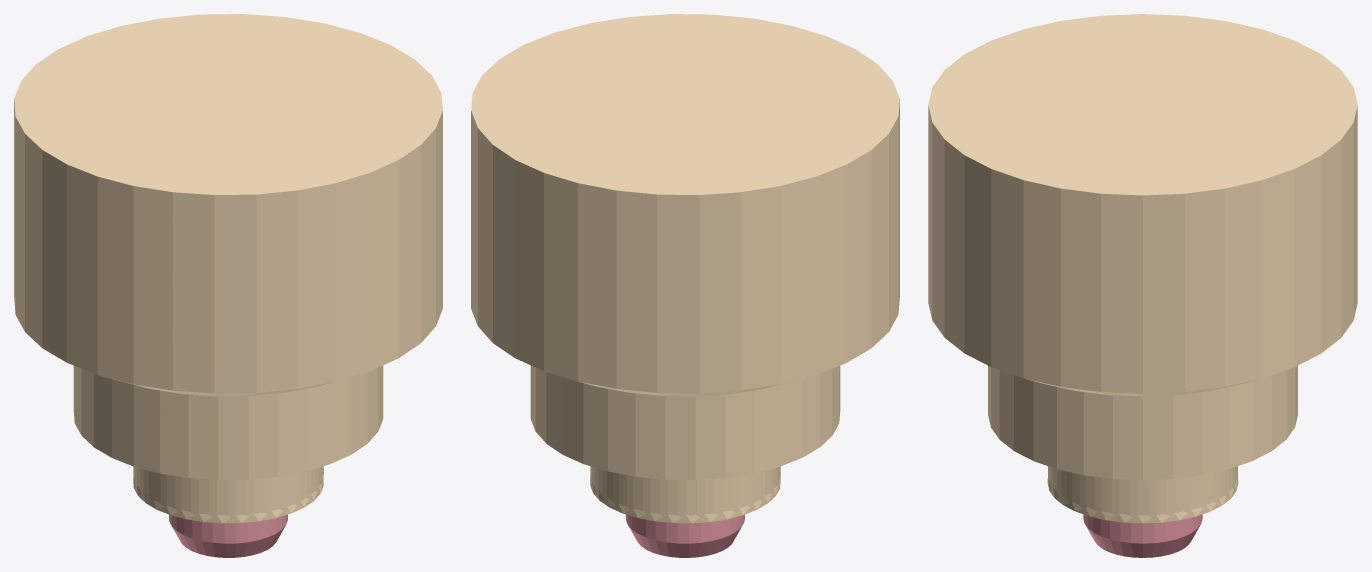
The model's file is blackchess-bottom.fbx.
3 renders of one model, left to right at view 1: azimuth 30°, elevation 25°; view 2: azimuth 150°, elevation 25°; view 3: azimuth 270°, elevation 25°, orthographic.
Visible parts, largest first — view 1: leg.top, leg.mid, leg.bottom, point; view 2: leg.top, leg.mid, leg.bottom, point; view 3: leg.top, leg.mid, leg.bottom, point.
Part boxes in pixels (x1=…): leg.top: x1=14, y1=14, x2=442, y2=396; leg.mid: x1=73, y1=365, x2=383, y2=479; leg.bottom: x1=133, y1=466, x2=323, y2=523; point: x1=169, y1=514, x2=287, y2=557; leg.top: x1=471, y1=14, x2=899, y2=396; leg.mid: x1=530, y1=365, x2=840, y2=479; leg.bottom: x1=590, y1=466, x2=780, y2=523; point: x1=626, y1=514, x2=744, y2=557; leg.top: x1=928, y1=14, x2=1357, y2=396; leg.mid: x1=988, y1=366, x2=1297, y2=480; leg.bottom: x1=1047, y1=466, x2=1238, y2=523; point: x1=1083, y1=514, x2=1202, y2=557.
Bounding box in the file's own units: 360 × 400 × 360.
